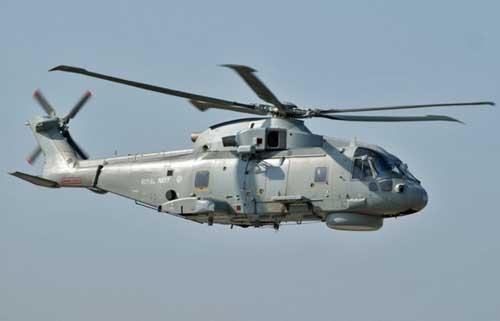airplane: (11, 57, 500, 234)
